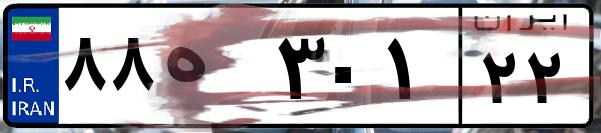0: (330, 28, 385, 110)
1: (385, 28, 445, 110)
2: (475, 38, 525, 113), (525, 38, 570, 115)
3: (270, 28, 330, 110)
8: (57, 26, 110, 100), (110, 28, 158, 98)
ه: (158, 20, 270, 120)
